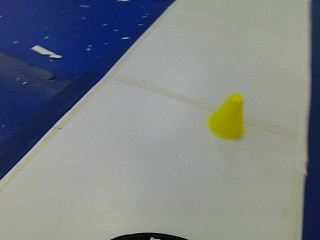cone: (204, 91, 246, 139)
